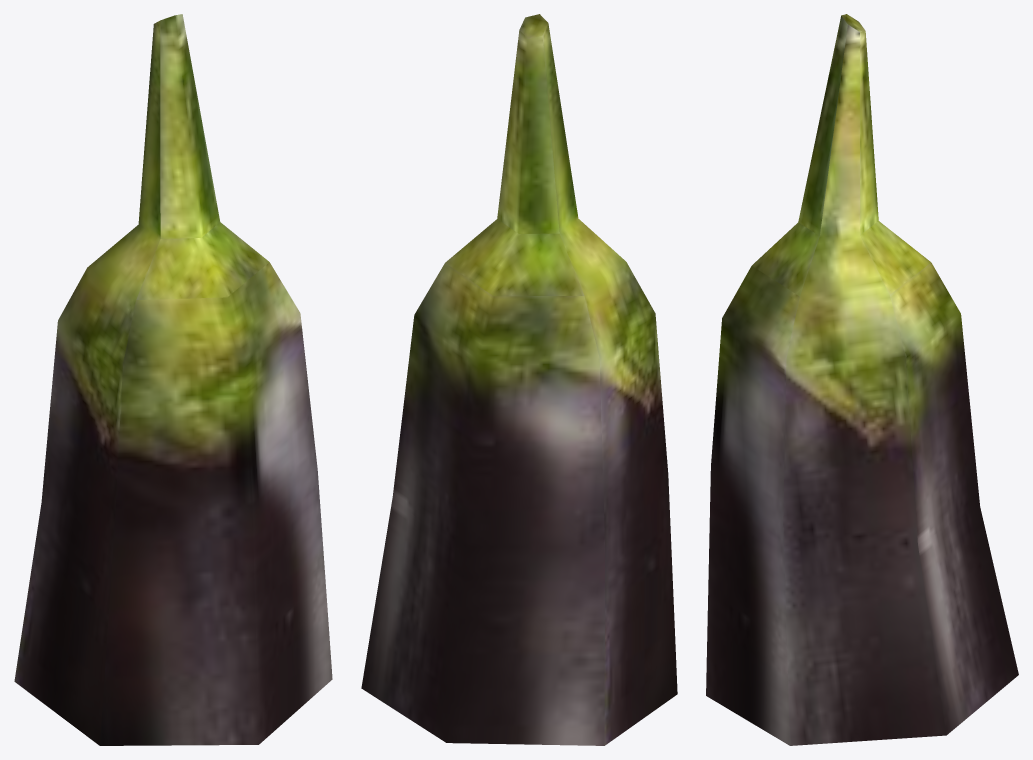
Rendered from Eggplant_01.glb.
The picture shows the model from 3 angles, left to right: view 1: azimuth 30°, elevation 25°; view 2: azimuth 150°, elevation 25°; view 3: azimuth 270°, elevation 25°; orthographic projection.
Parts seen in each view (by area): view 1: Eggplant_01; view 2: Eggplant_01; view 3: Eggplant_01.
Boxes of the visible parts, x1,y1,x2,y2 form: Eggplant_01: (14,14,332,745); Eggplant_01: (361,14,677,745); Eggplant_01: (706,14,1018,745).
Bounding box in the file's own units: 0.0593 × 0.1583 × 0.0667.
Materials: 1 (1 with a texture image).
